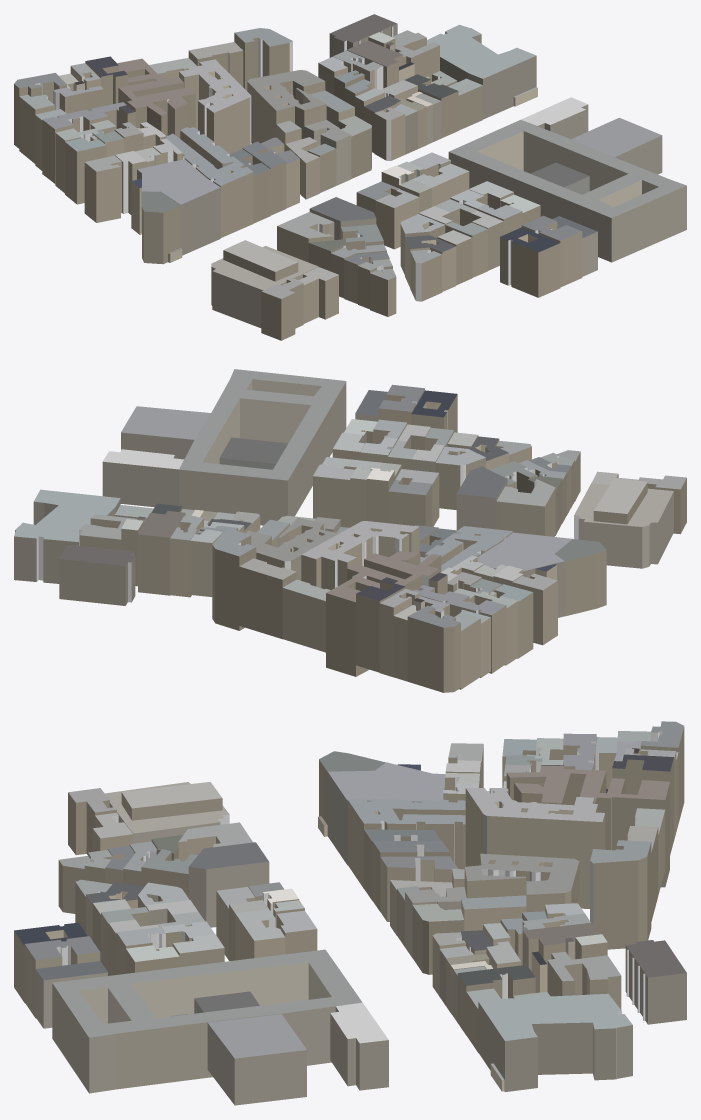
3 renders of one model, top to bottom at view 1: azimuth 30°, elevation 25°; view 2: azimuth 150°, elevation 25°; view 3: azimuth 270°, elevation 25°, orthographic. The views are drawn at different scales.
Parts seen in each view (by area): view 1: tuile; view 2: tuile; view 3: tuile.
Part boxes in pixels (bbox=[...]): tuile: bbox=[14, 14, 686, 340]; tuile: bbox=[14, 369, 686, 692]; tuile: bbox=[14, 721, 686, 1105].
Bounding box in the file's own units: 273 × 50.45 × 264.
